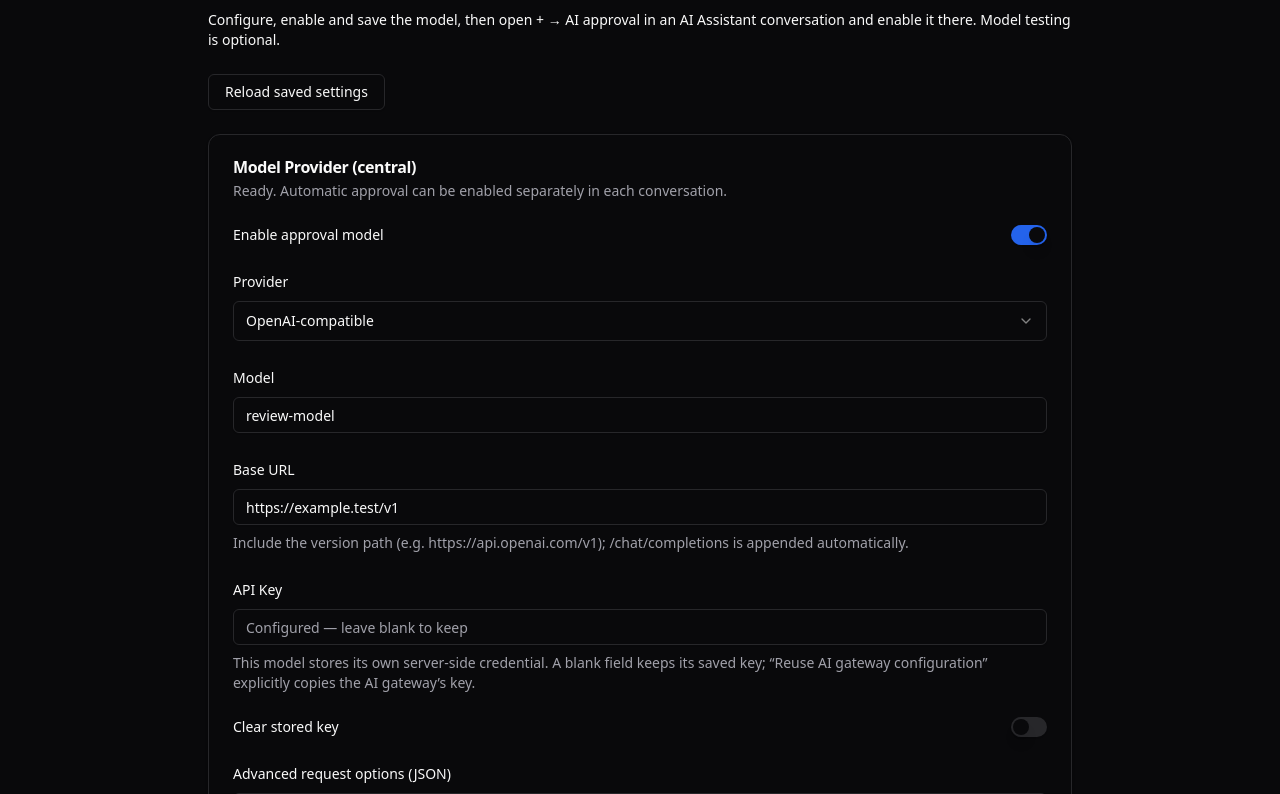
Scenario: explicitly reusing the saved AI gateway › cancels without changing the edited model, key, clear-key switch or enablement
Replace the text in the field labelled "Model" with "another-review-model" at (640, 415), box [233,397,1047,433]
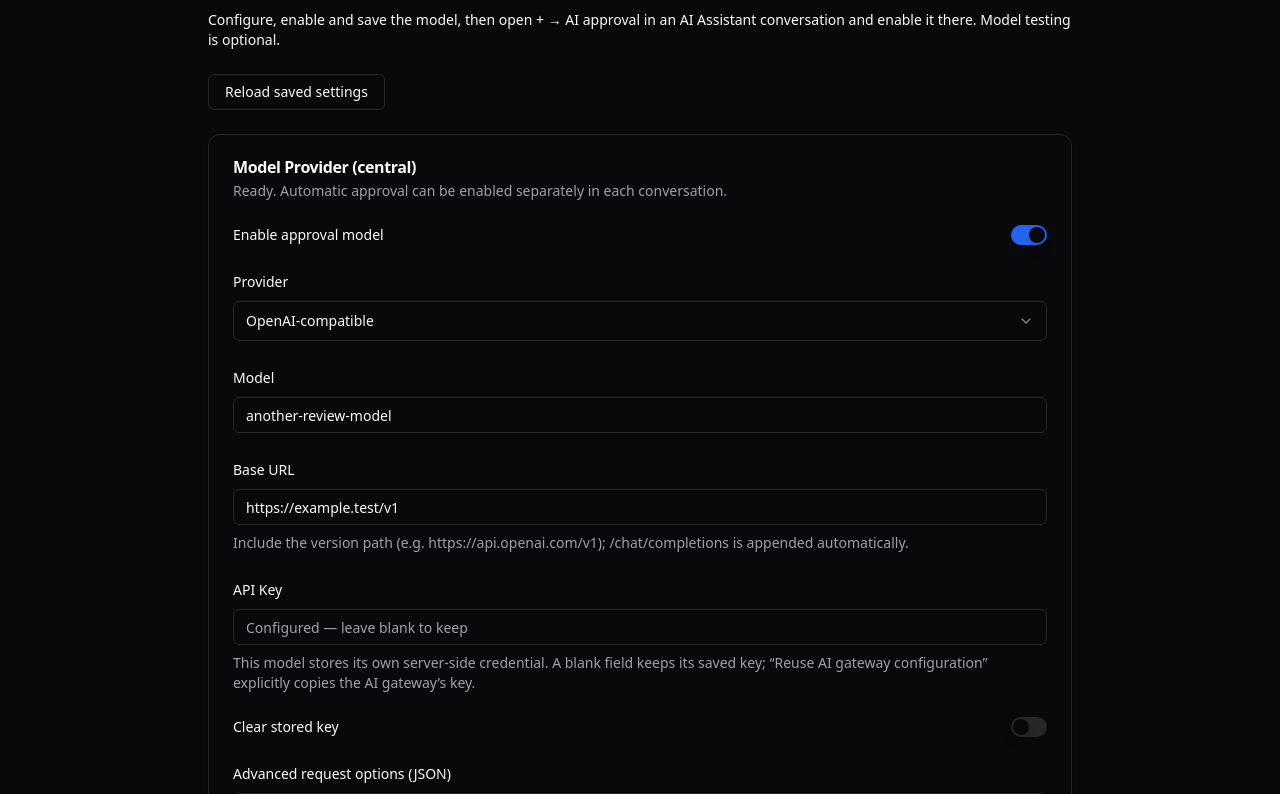
Type "synthetic-draft-key" into the password field labelled "API Key".
click(640, 627); type("synthetic-draft-key")  # box [233,609,1047,645]
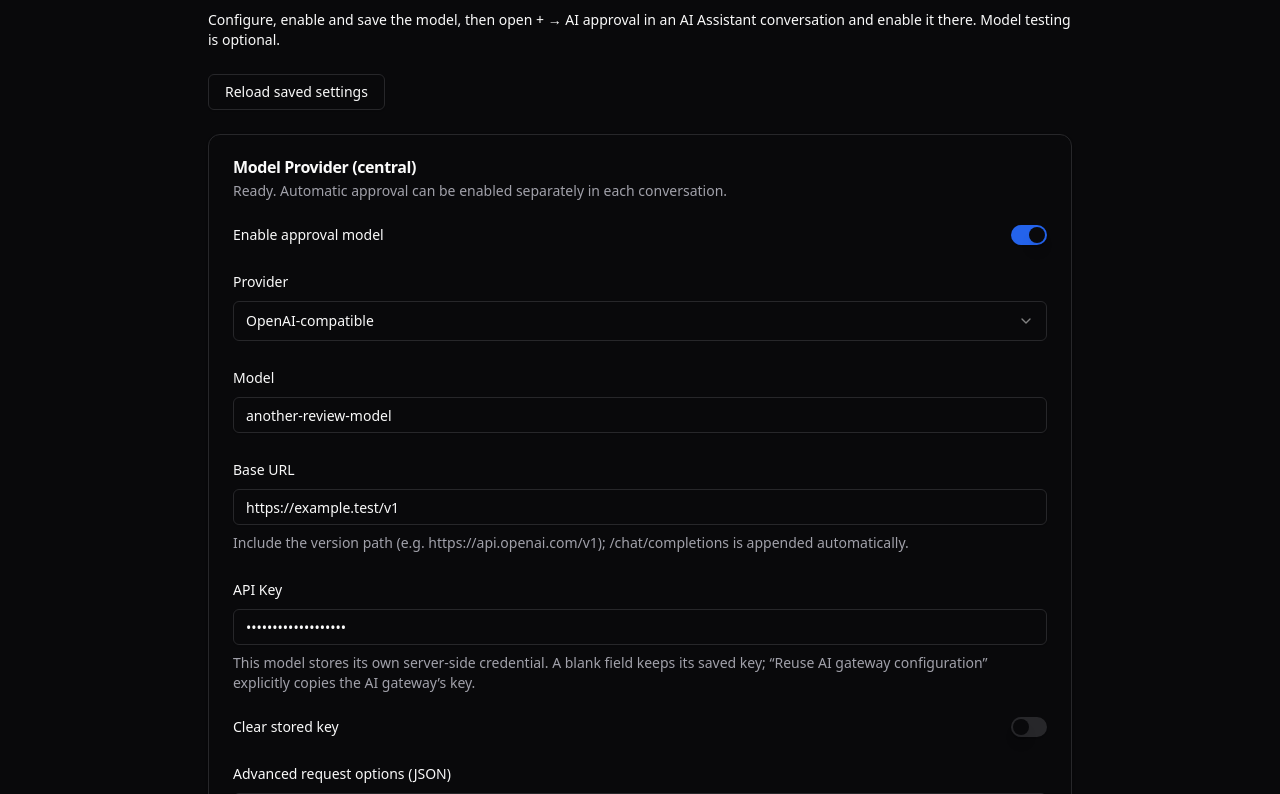
Click the switch named "Clear stored key" in the row of "Clear stored key".
click(1029, 727)  # box [1011,717,1047,737]
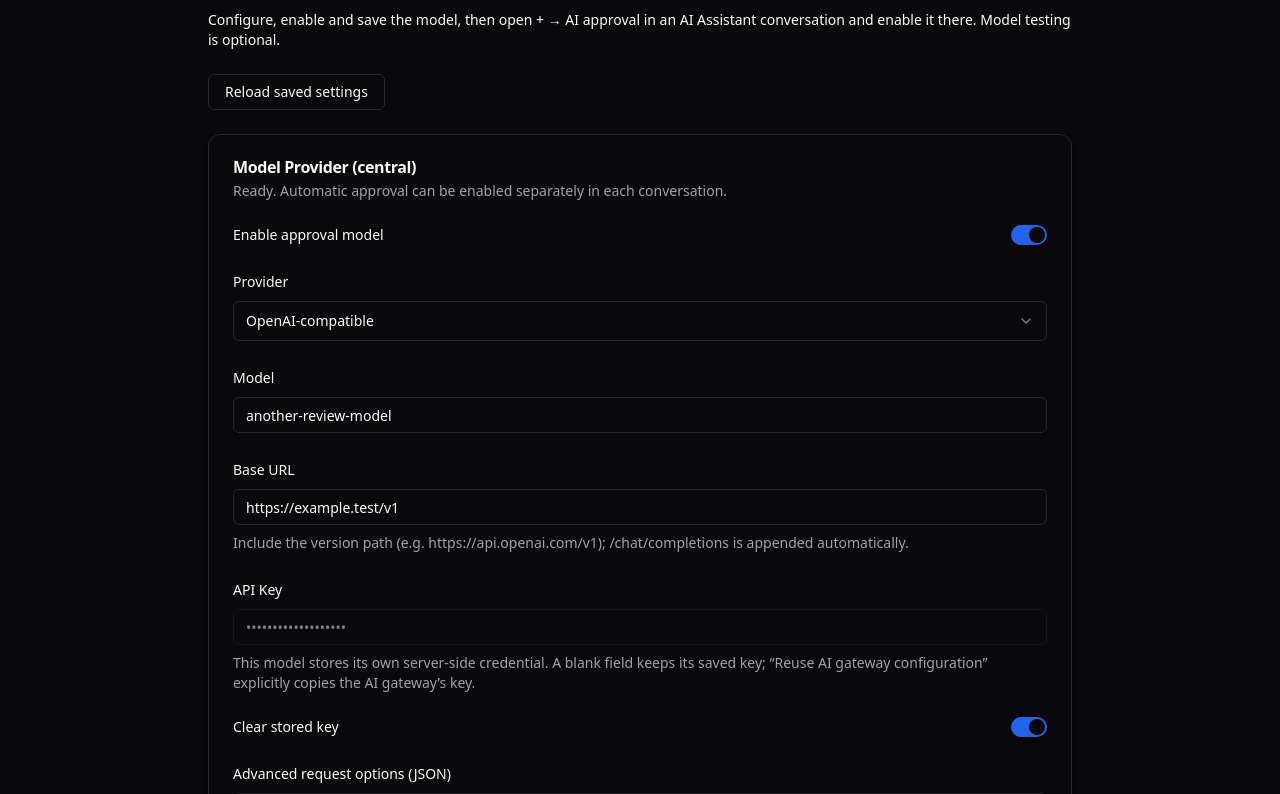
Click the switch named "Enable approval model" in the row of "Enable approval model".
click(1029, 235)  # box [1011,225,1047,245]
(page scrolled)
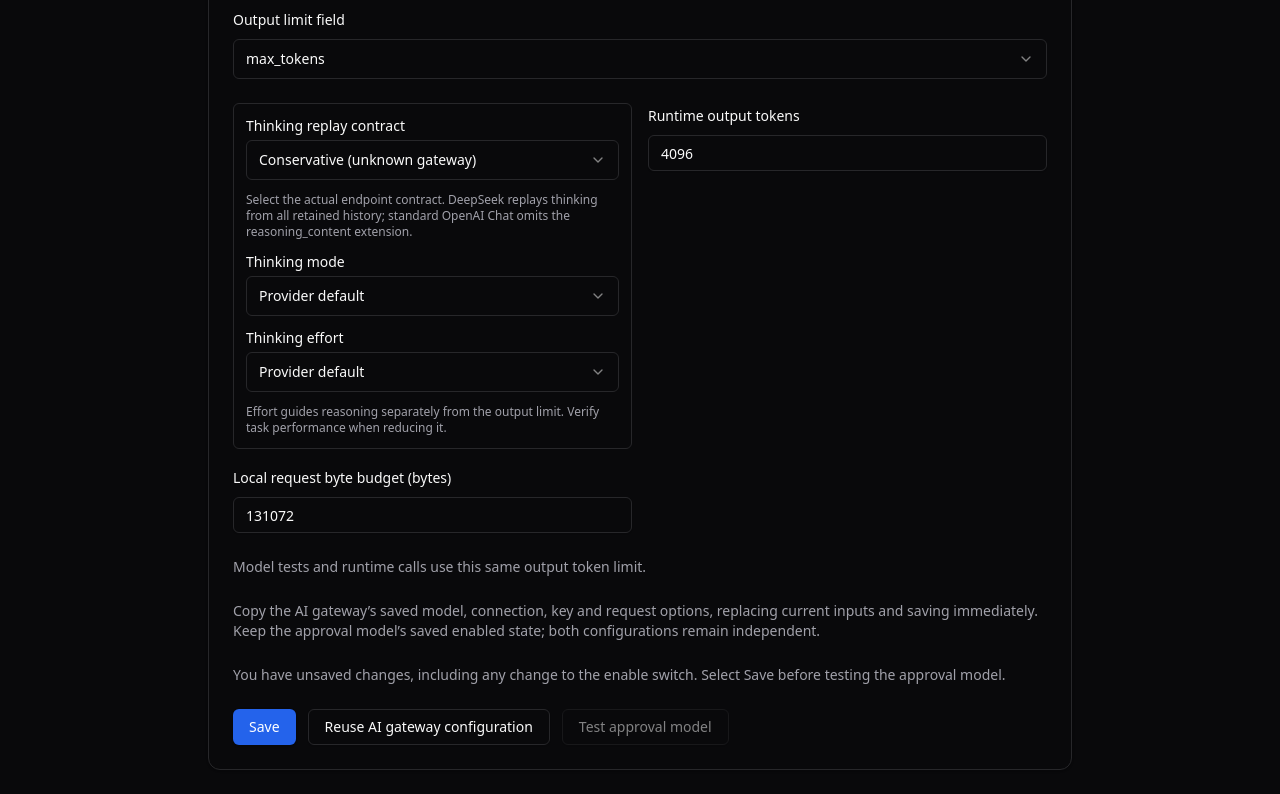
Click the button "Reuse AI gateway configuration".
click(429, 727)  # box [308,709,550,745]
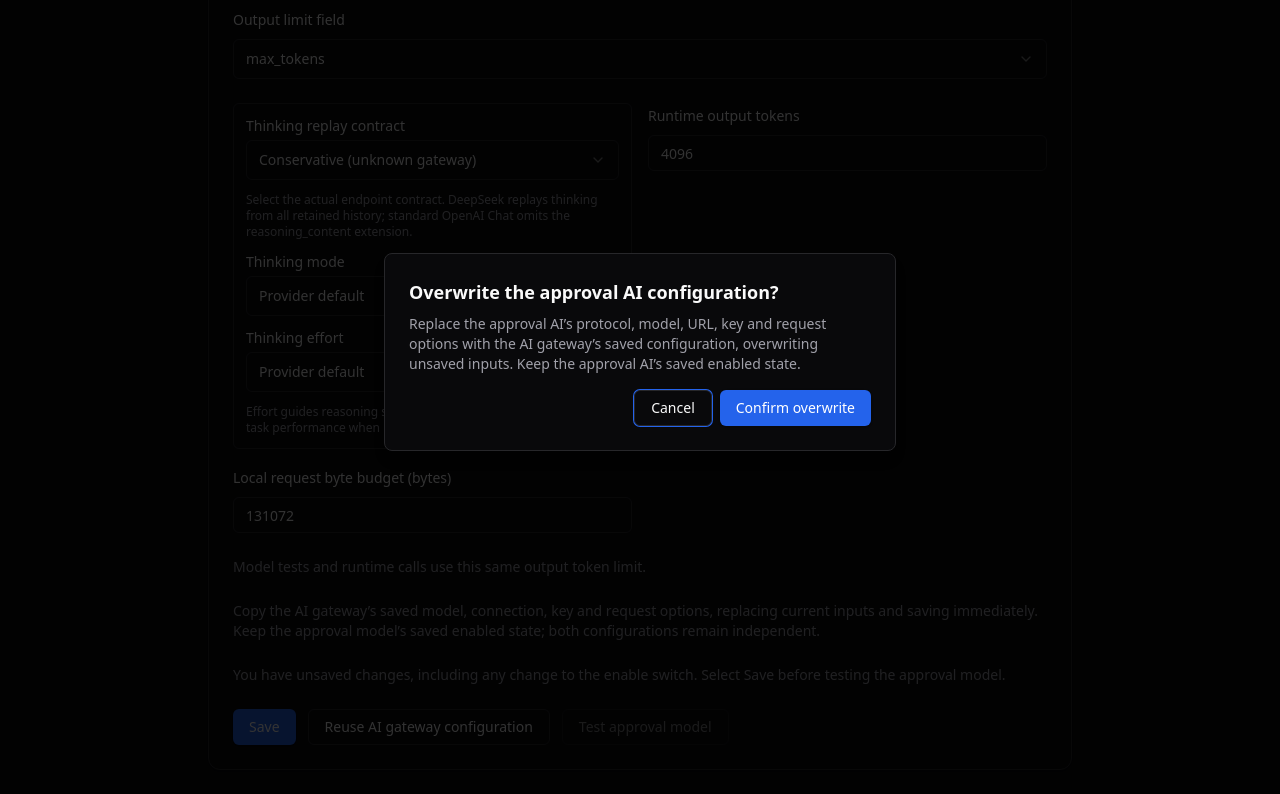
Click the button "Cancel".
click(673, 408)  # box [634,390,712,426]
(page scrolled)
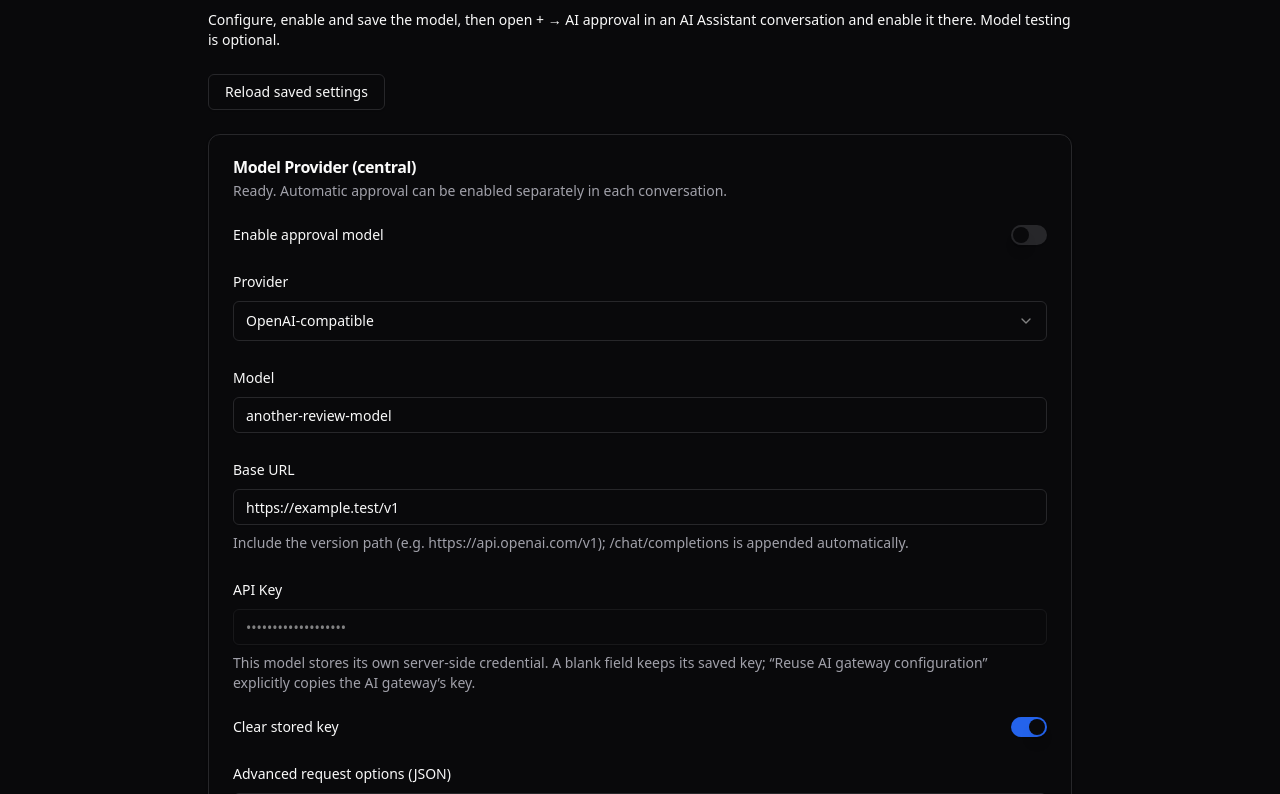
Expected: the switch named "Clear stored key" in the row of "Clear stored key" is checked, [1011,717,1047,737]
Expected: the switch named "Enable approval model" in the row of "Enable approval model" is not checked, [1011,225,1047,245]
Expected: the dialog is gone
